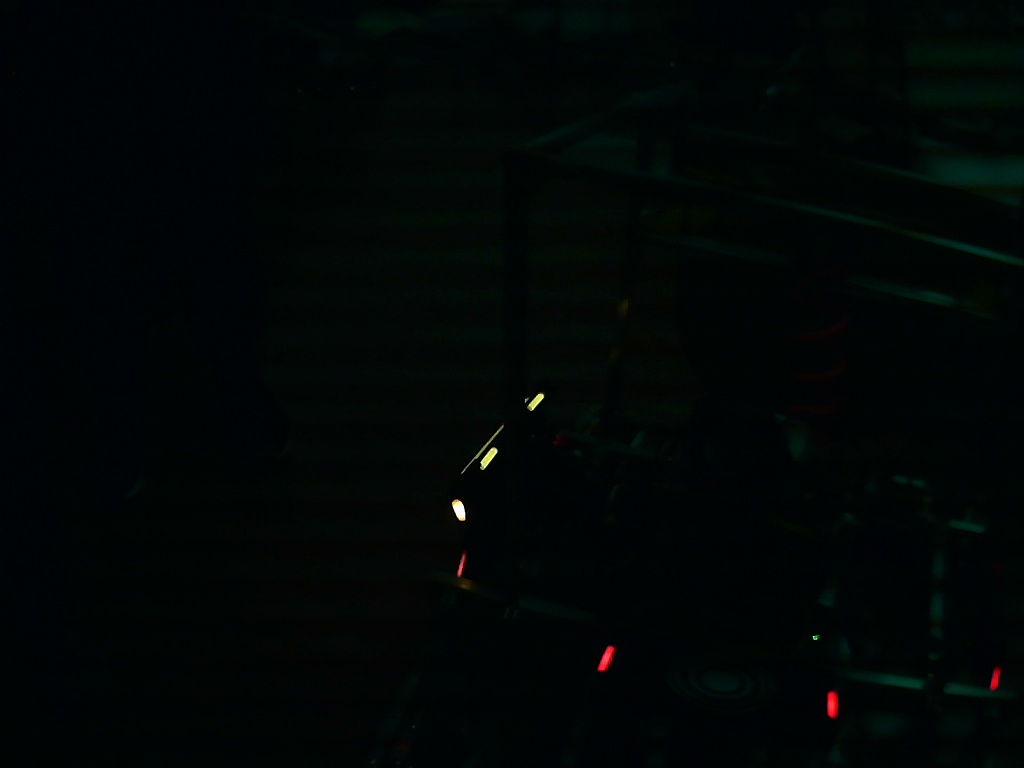lamp: (594, 644, 619, 673), (823, 689, 842, 721)
